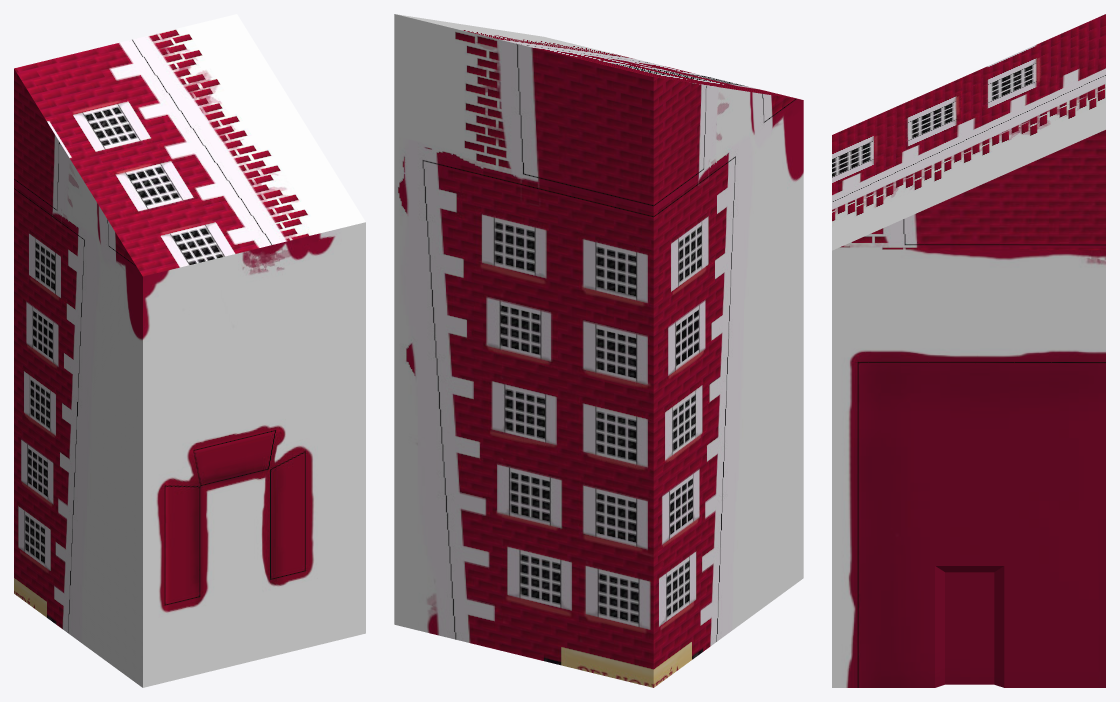
The model's file is edificio3.FBX.
The picture shows the model from 3 angles, left to right: view 1: azimuth 30°, elevation 25°; view 2: azimuth 150°, elevation 25°; view 3: azimuth 270°, elevation 25°; orthographic projection. The views are drawn at different scales.
Parts seen in each view (by area): view 1: Box004; view 2: Box004; view 3: Box004.
Boxes of the visible parts, x1=… form: Box004: x1=14, y1=14, x2=365, y2=687; Box004: x1=394, y1=14, x2=803, y2=687; Box004: x1=832, y1=14, x2=1105, y2=687.
Bounding box in the file's own units: 40 × 90 × 40.
